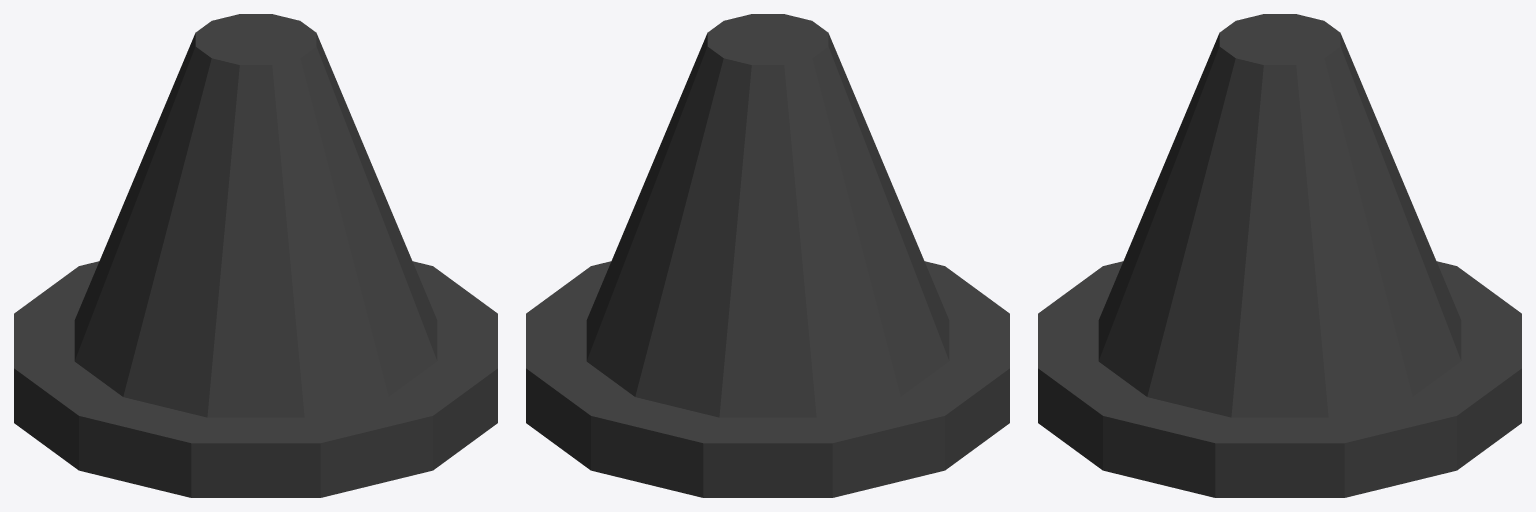
File: CalihanShipStand.obj
The picture shows the model from 3 angles, left to right: view 1: azimuth 30°, elevation 25°; view 2: azimuth 150°, elevation 25°; view 3: azimuth 270°, elevation 25°; orthographic projection.
Parts seen in each view (by area): view 1: cylinder; view 2: cylinder; view 3: cylinder.
Part boxes in pixels (x1=…): cylinder: x1=14, y1=14, x2=497, y2=497; cylinder: x1=526, y1=14, x2=1009, y2=497; cylinder: x1=1038, y1=14, x2=1521, y2=497.
Bounding box in the file's own units: 1 × 0.8125 × 1.
Materials: 1 (1 with a texture image).
